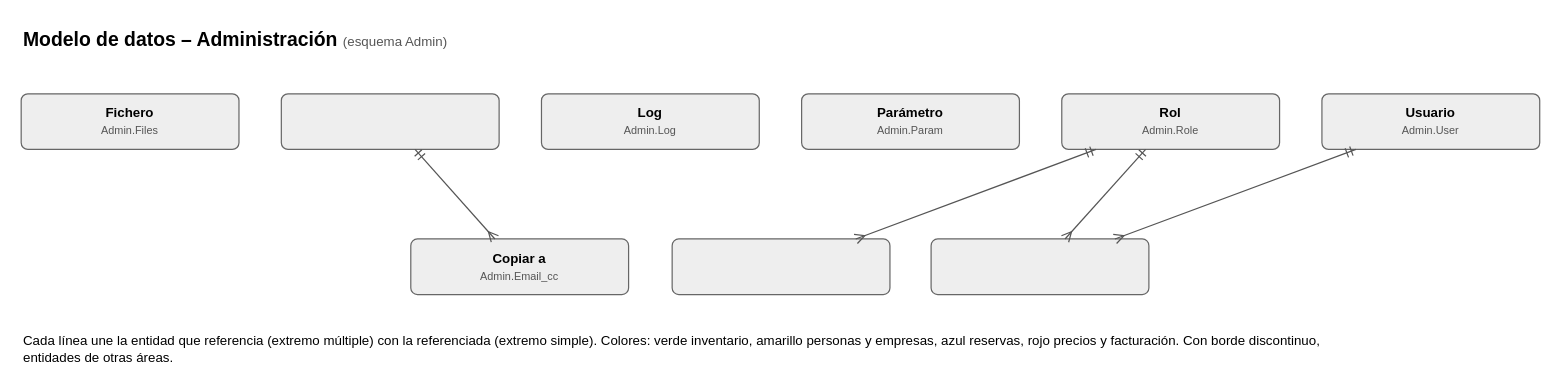
Some shapes in this 1561 by 387 pixel diagram are drawn without their labels. The shapes that lost their labels are listed below. From the top down, each one's box as (x1, y1, x2, y2) in pixels, then its label:
(280, 93, 499, 149): Plantilla de email Admin.Email
(671, 238, 890, 295): Notificación Admin.Notification
(930, 238, 1149, 295): Rol Admin.User_role
